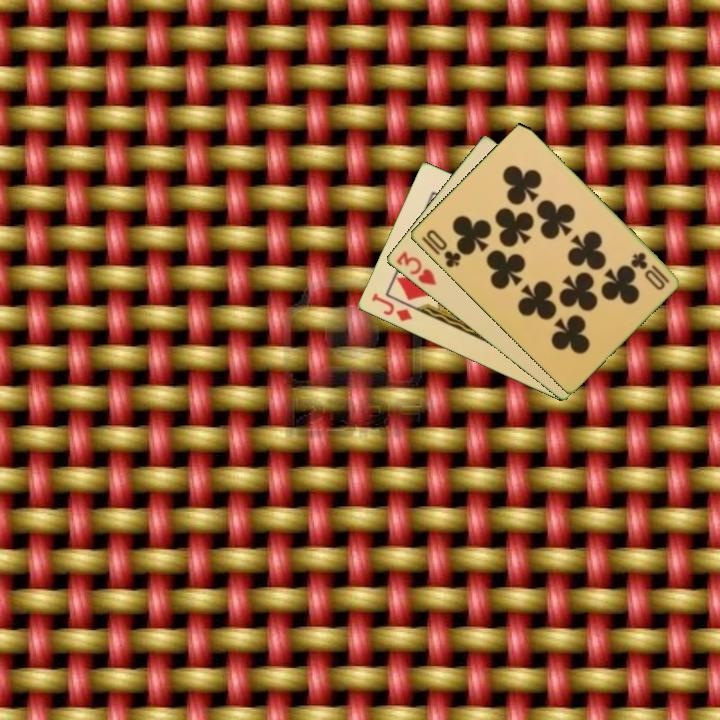10c: (627, 249, 672, 293), (422, 226, 464, 271)
3h: (392, 247, 439, 288)
Jd: (367, 290, 415, 324)
